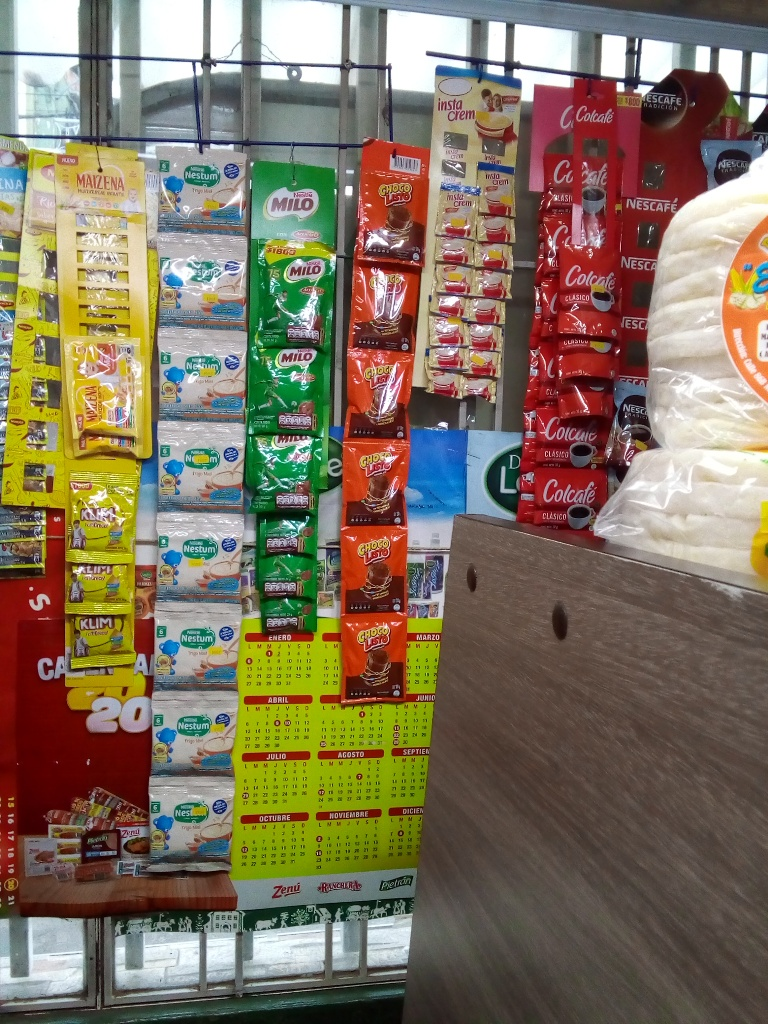COL0170103SOB02000: (339, 613, 407, 703)
